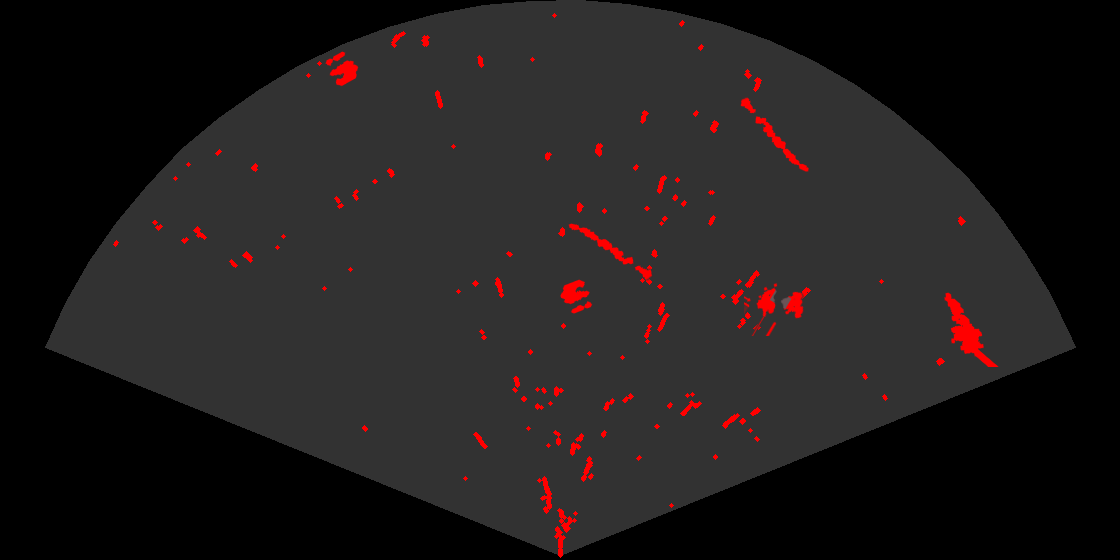ball: (324, 50, 360, 88), (559, 278, 594, 315)
cage: (744, 282, 805, 336)
chain: (739, 96, 810, 173), (567, 222, 654, 281)
frogman: (943, 291, 1000, 367)
